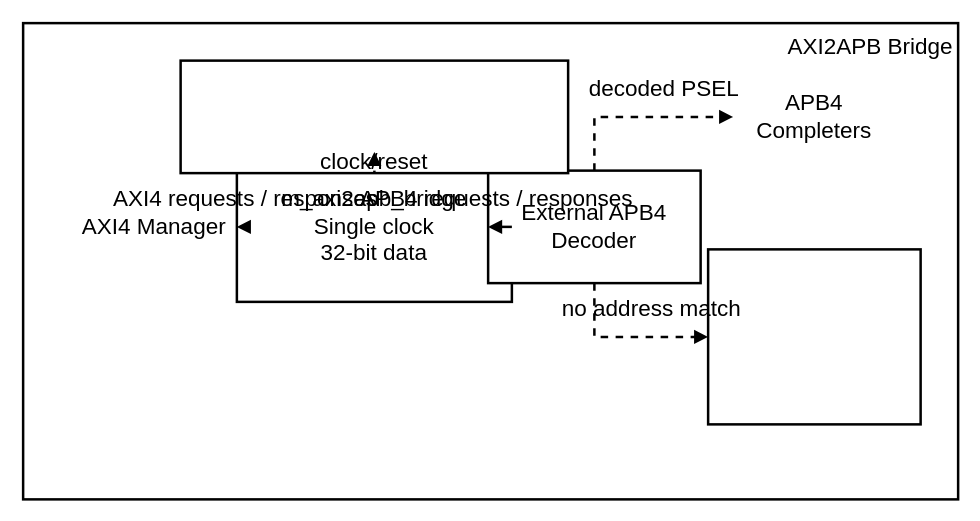
This 980x521 diagram has some shape labels left out. The shapes that lost their labels are listed below. From the top down, each one's centre as x and y in pixels, then its label:
At (374,116): "Shared ACLK=PCLK Async assert / sync release".
At (813,336): "Default error Completer PREADY=1 PSLVERR=1".
